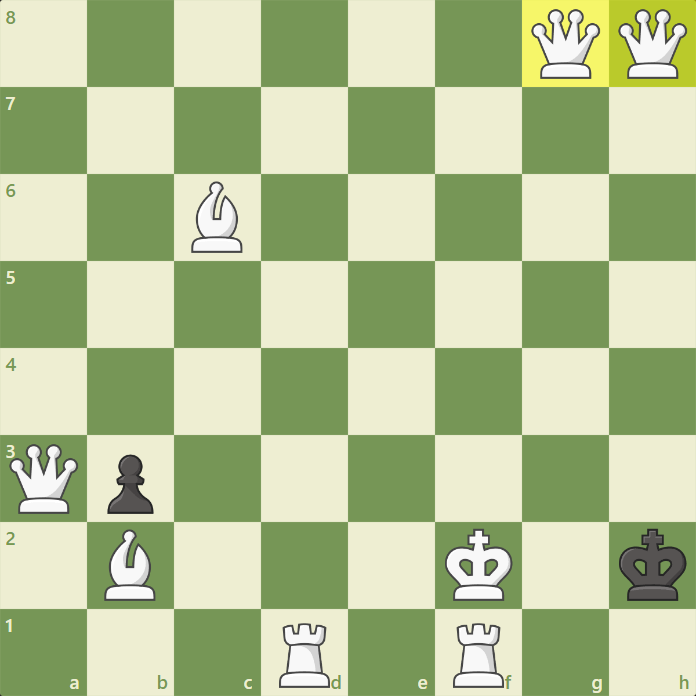B: (188, 180, 244, 256), (102, 529, 157, 602)
K: (444, 527, 515, 603)
Q: (616, 6, 689, 83), (529, 6, 602, 82), (8, 442, 79, 516)
R: (451, 621, 507, 691), (275, 620, 331, 690)
k: (617, 527, 688, 603)
p: (105, 453, 156, 516)
